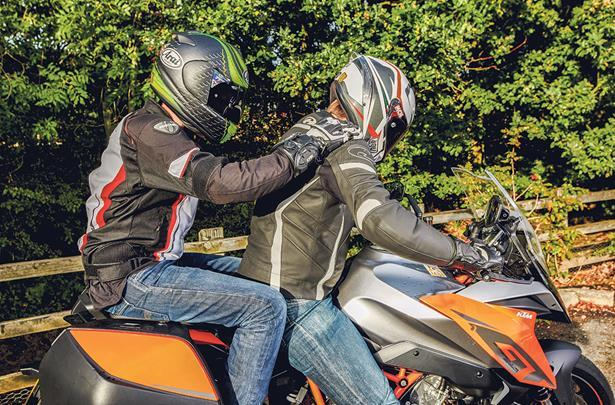helmet: (136, 16, 260, 152), (322, 47, 422, 165)
